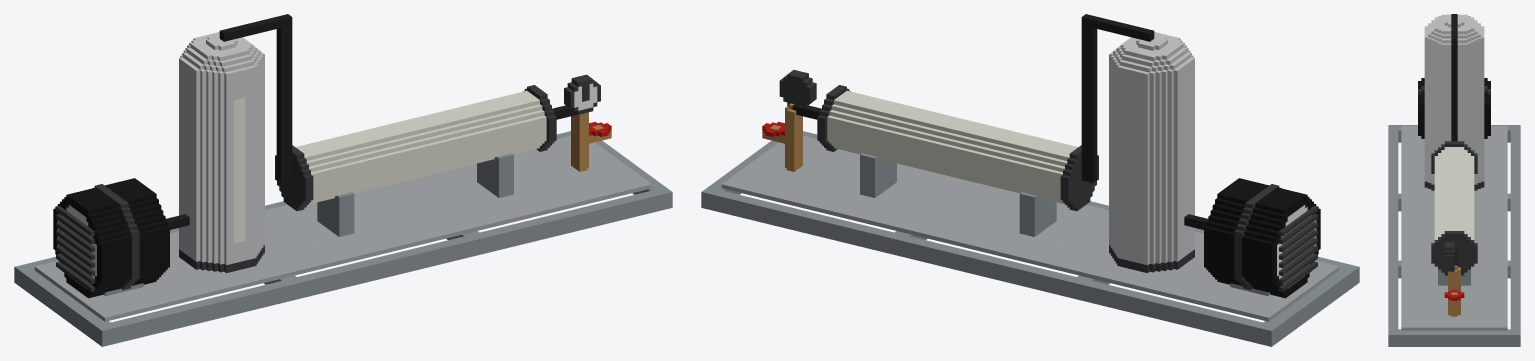
Rendered from nitrogen_generator.glb.
The picture shows the model from 3 angles, left to right: view 1: azimuth 30°, elevation 25°; view 2: azimuth 150°, elevation 25°; view 3: azimuth 270°, elevation 25°; orthographic projection. The views are drawn at different scales.
Parts seen in each view (by area): view 1: nitrogen_generator:compound; view 2: nitrogen_generator:compound; view 3: nitrogen_generator:compound.
Part boxes in pixels (x1,y1,x2,y2): nitrogen_generator:compound: (14,14,672,346); nitrogen_generator:compound: (701,14,1359,346); nitrogen_generator:compound: (1388,14,1520,346).
Bounding box in the file's own units: 1.5 × 0.61 × 0.4.
